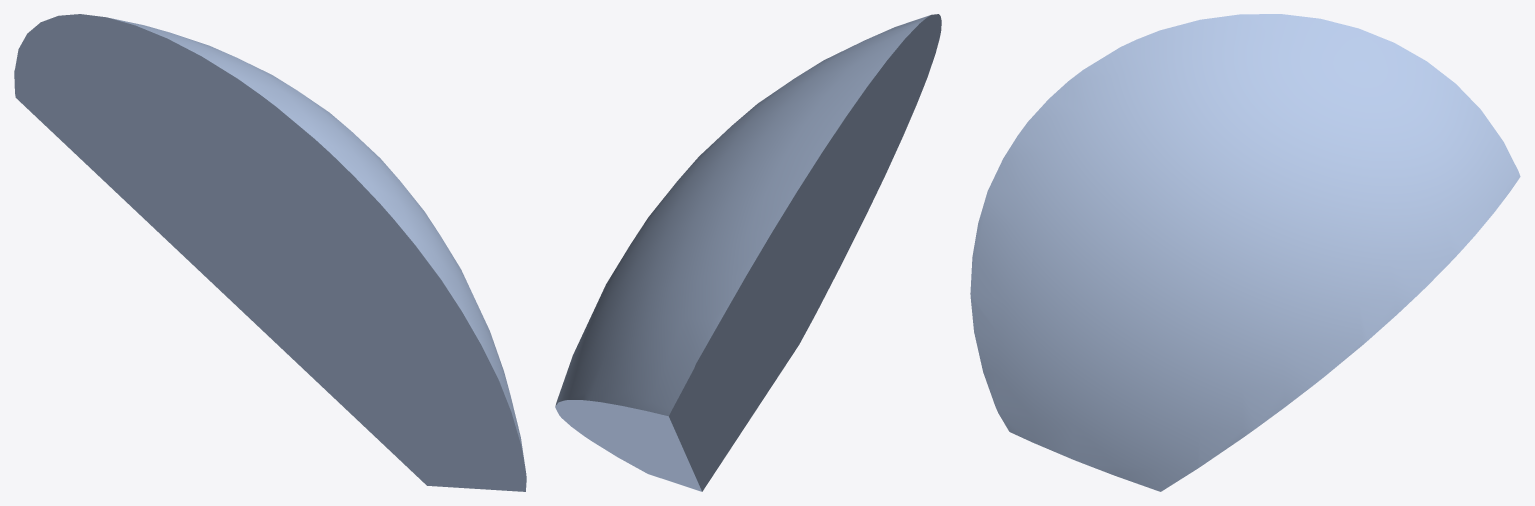
The model's file is Ball2_1.fbx.
3 views of the same model, side by side, from view 1: azimuth 30°, elevation 25°; view 2: azimuth 150°, elevation 25°; view 3: azimuth 270°, elevation 25° (orthographic). The views are drawn at different scales.
Parts seen in each view (by area): view 1: Cube_cell.058; view 2: Cube_cell.058; view 3: Cube_cell.058.
Boxes of the visible parts, x1,y1,x2,y2 form: Cube_cell.058: [14, 14, 526, 491]; Cube_cell.058: [555, 14, 941, 491]; Cube_cell.058: [970, 14, 1520, 491].
Bounding box in the file's own units: 51.74 × 83.21 × 109.
